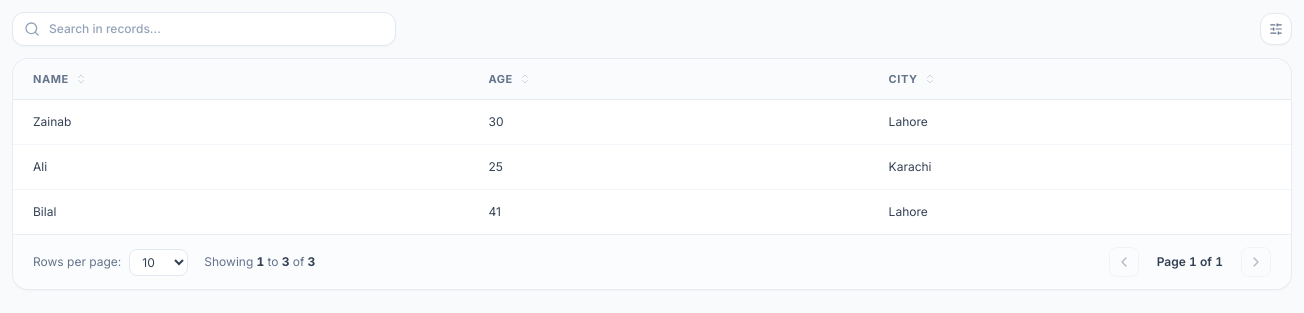
Test: DataTable › search filters on any value, ignoring case, and says so when nothing matches
Type "lahore" into the field with placeholder "Search in records..." at point(204, 29), box [12,12,396,46]
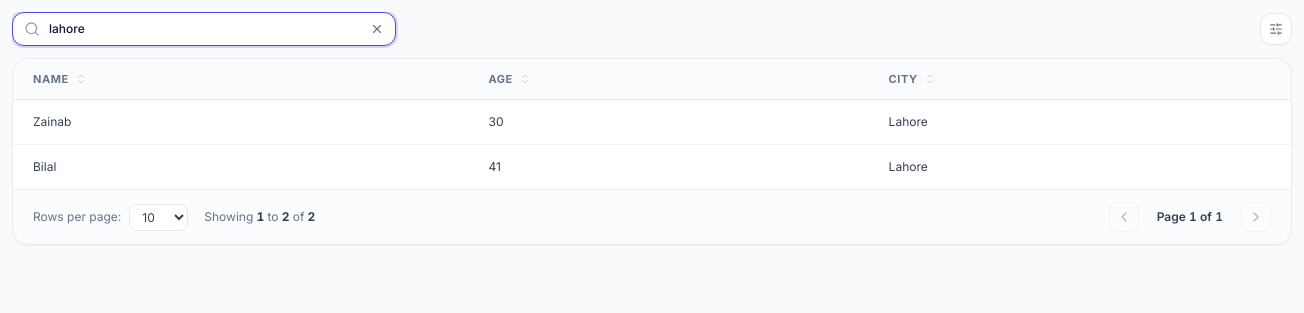
Replace the text in the field with placeholder "Search in records..." with "nobody" at point(204, 29), box [12,12,396,46]
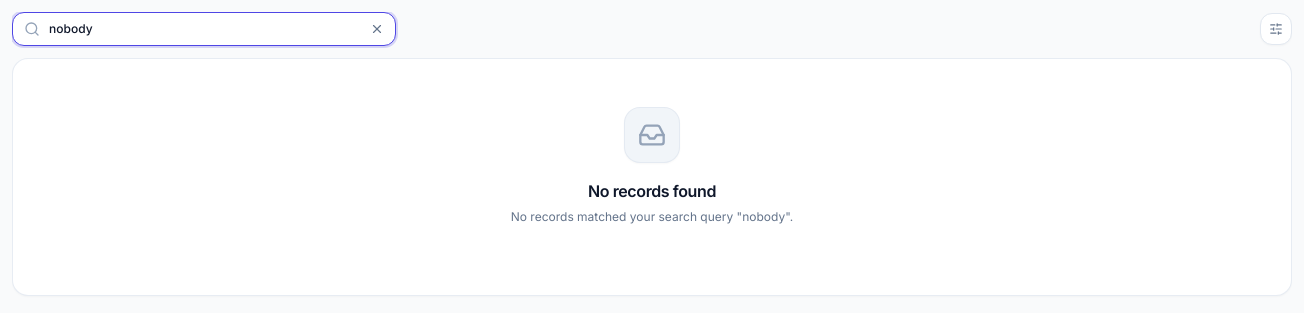
Now the text "No records found" is shown, box [588,179,716,203]
Now the text "No records matched your search query \"nobody\"." is shown, box [511,207,793,226]
